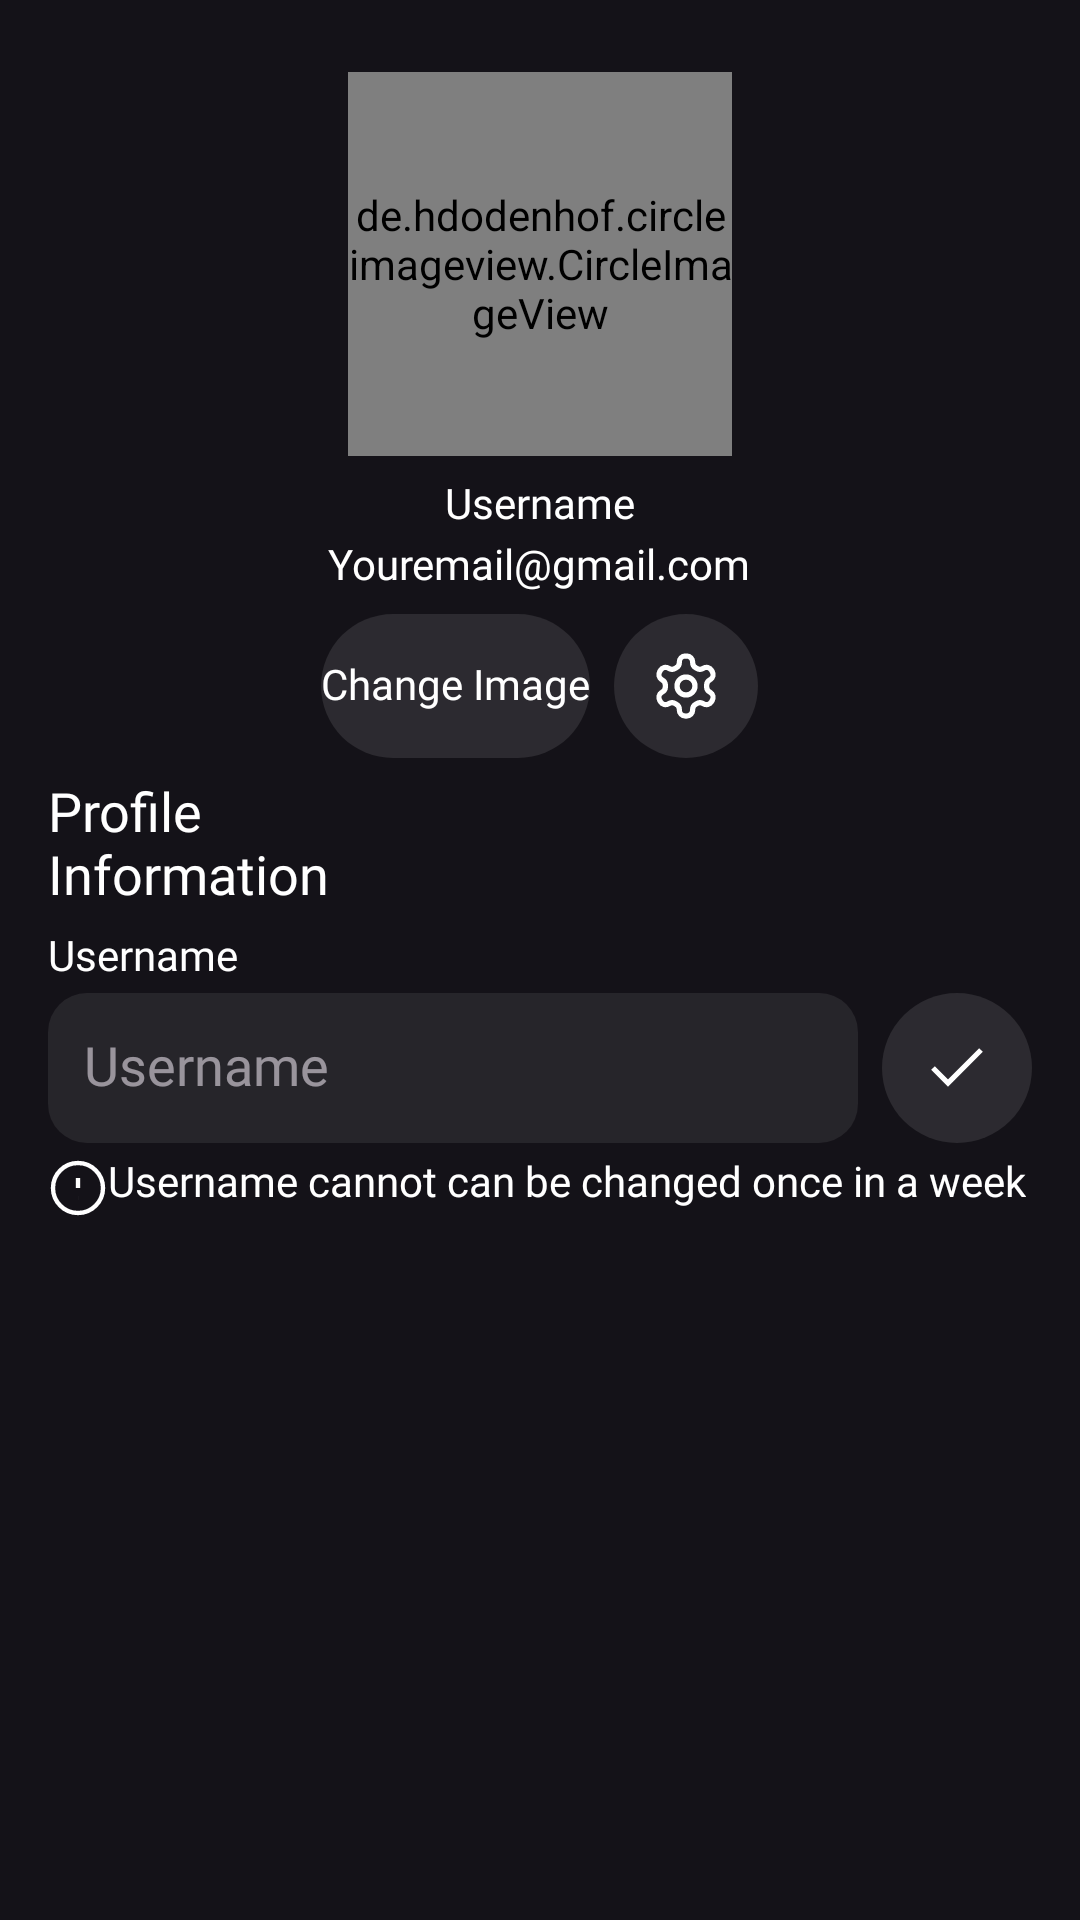

Icon bounding boxes for this 1080px x 1920px phone screenshot, format (x1, y1, x2, y2):
check: (882, 993, 1032, 1143)
settings: (614, 614, 758, 758)
